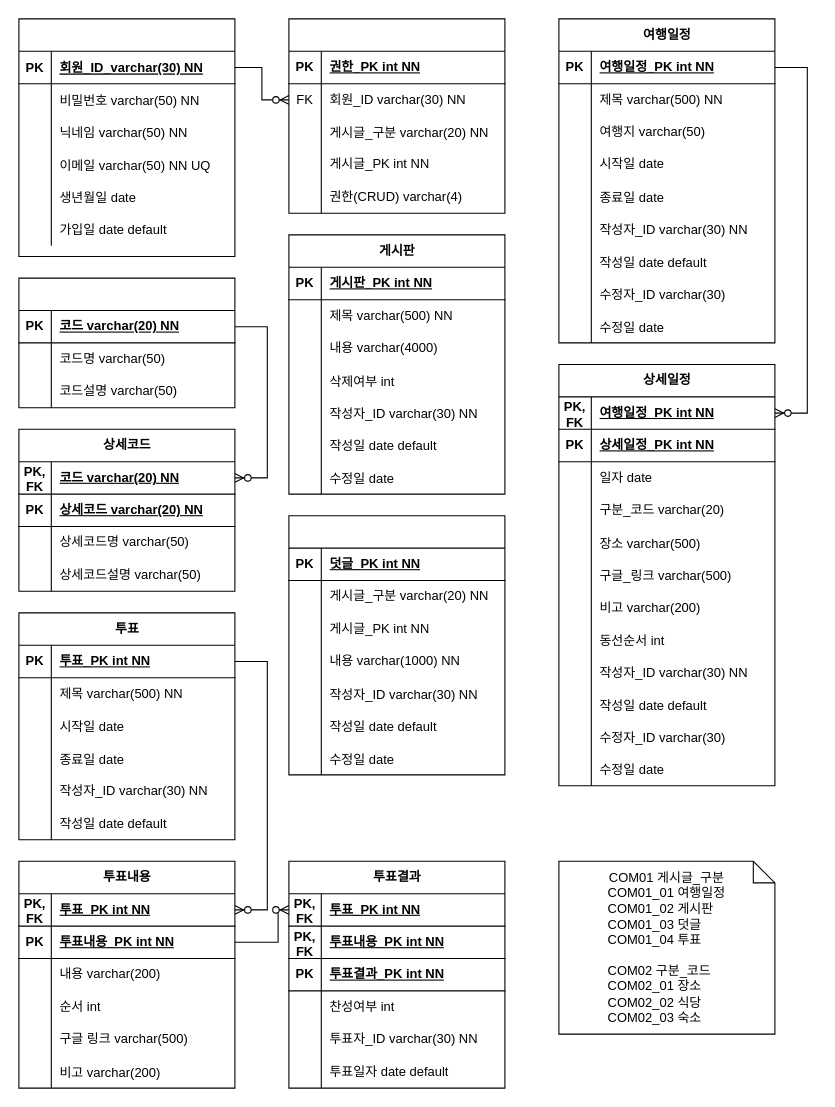
The diagram is 835 pixels wide and 1107 high, and some of its shapes have lost their labels. Each missing label, with the box of its shape:
권한정보: (288, 18, 505, 213)
덧글: (288, 515, 505, 775)
코드: (18, 277, 235, 408)
회원정보: (18, 18, 235, 256)
